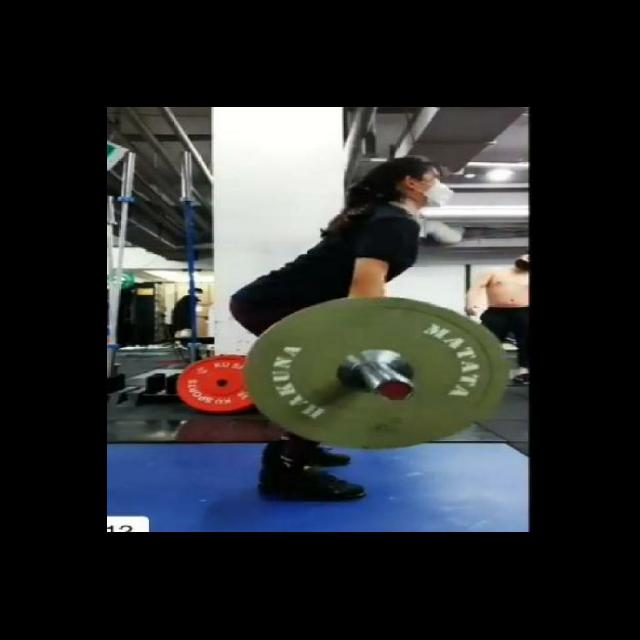barbell: (233, 290, 516, 453)
